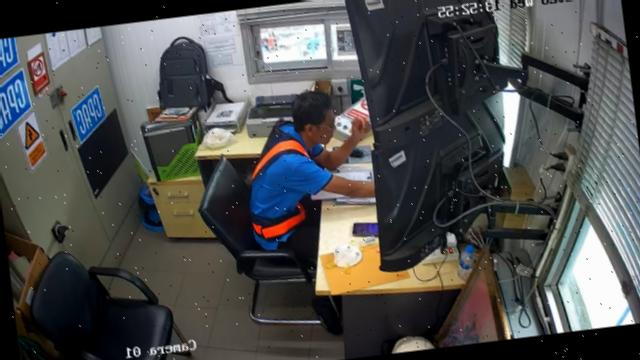Head: (292, 92, 334, 146)
People: (249, 92, 375, 265)
Phone: (353, 222, 377, 236)
